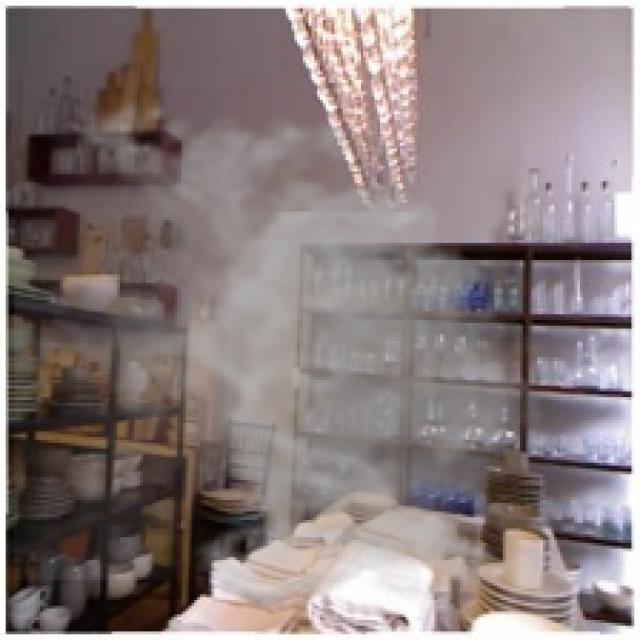Smoke: (14, 86, 560, 614)
